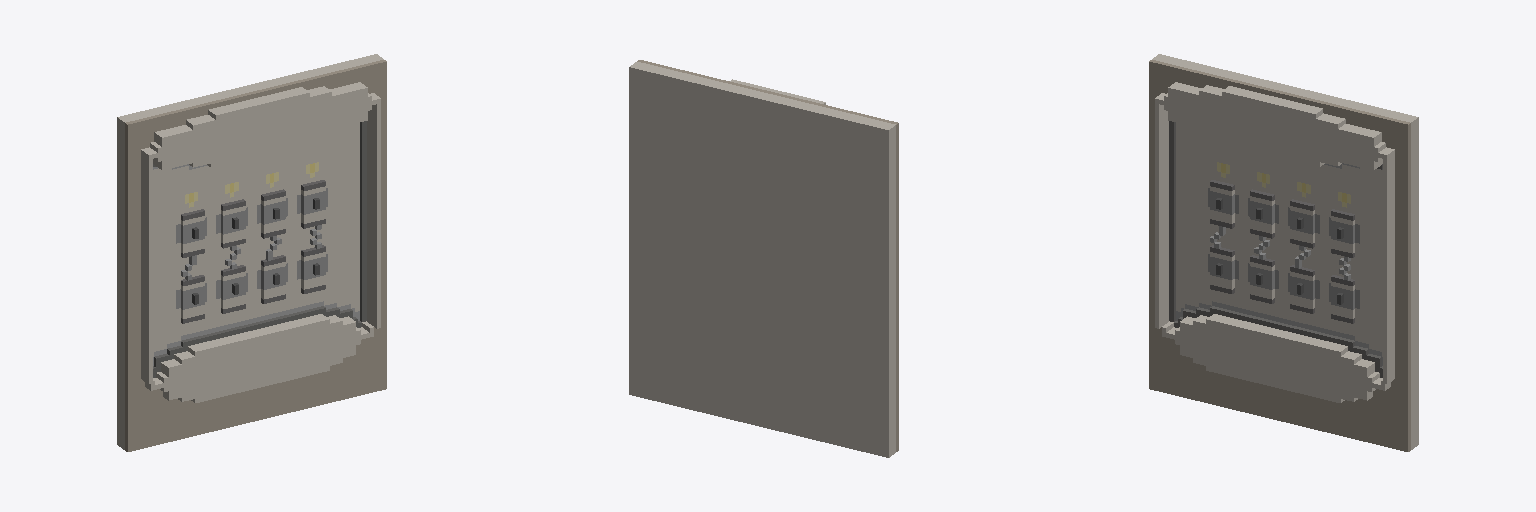
The picture shows the model from 3 angles: view 1: azimuth 30°, elevation 25°; view 2: azimuth 150°, elevation 25°; view 3: azimuth 330°, elevation 25°; orthographic projection.
Visible parts, largest first — view 1: object 1; view 2: object 1; view 3: object 1.
Boxes of the visible parts, x1=… form: object 1: x1=117, y1=54, x2=386, y2=451; object 1: x1=629, y1=60, x2=898, y2=457; object 1: x1=1149, y1=54, x2=1418, y2=451.
Bounding box in the file's own units: 5.8 × 7 × 0.7.
Materials: 1 (1 with a texture image).